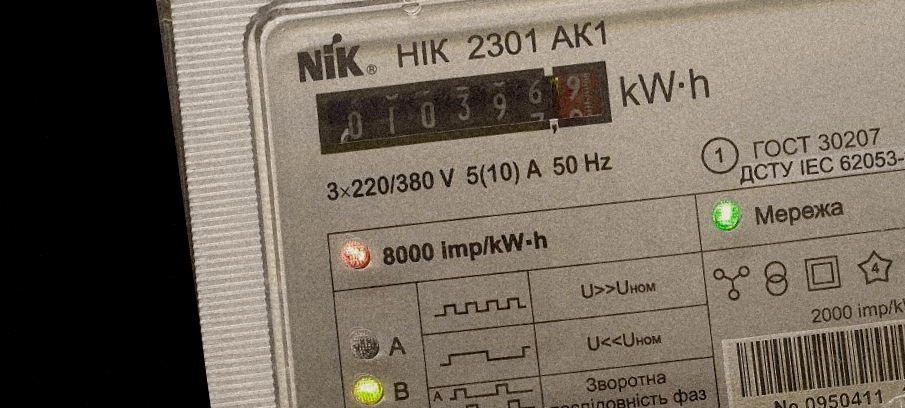0: (414, 96, 440, 131), (342, 106, 366, 141)
1: (382, 101, 400, 135)
3: (452, 89, 475, 124)
6: (522, 75, 547, 107)
9: (487, 88, 511, 123), (560, 71, 585, 104)
screen: (297, 40, 626, 176)
